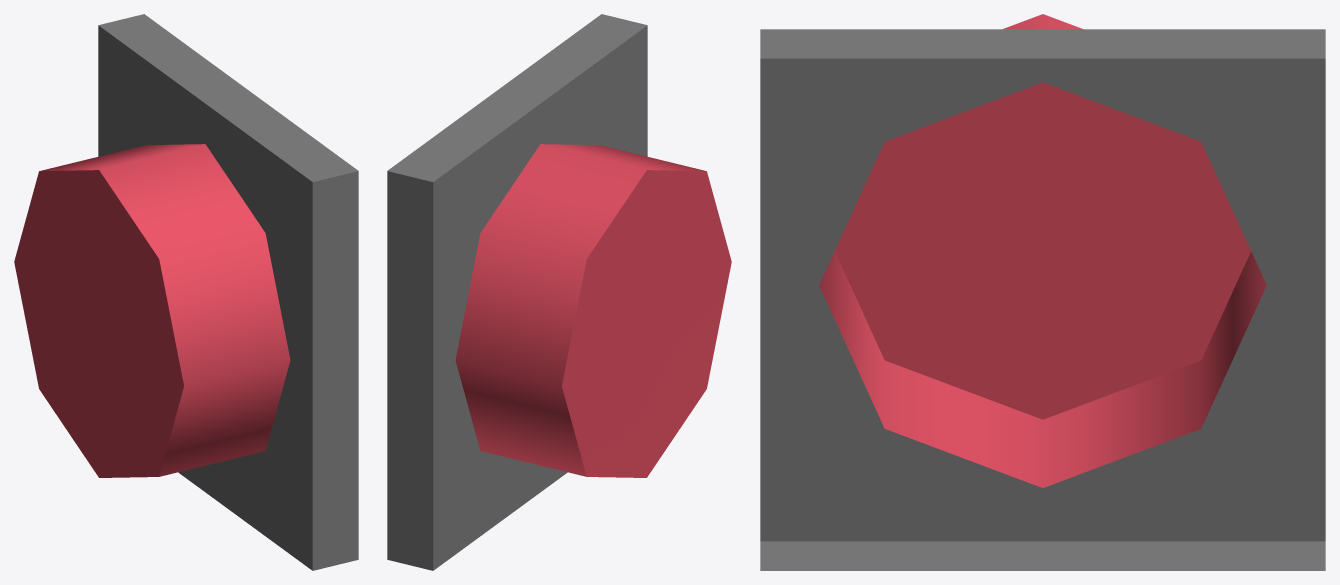
File: push button.fbx
3 renders of one model, left to right at view 1: azimuth 30°, elevation 25°; view 2: azimuth 150°, elevation 25°; view 3: azimuth 270°, elevation 25°, orthographic. The views are drawn at different scales.
Visible parts, largest first — view 1: Pushable Part, Button Base; view 2: Pushable Part, Button Base; view 3: Button Base, Pushable Part.
Part boxes in pixels (x1,y1,x2,y2): Pushable Part: (14, 144, 290, 477); Button Base: (98, 14, 358, 570); Pushable Part: (455, 144, 731, 477); Button Base: (387, 14, 647, 570); Button Base: (760, 29, 1325, 570); Pushable Part: (819, 14, 1266, 487).
Size of the model in its own units: 0.0133 by 0.0325 by 0.0325.
